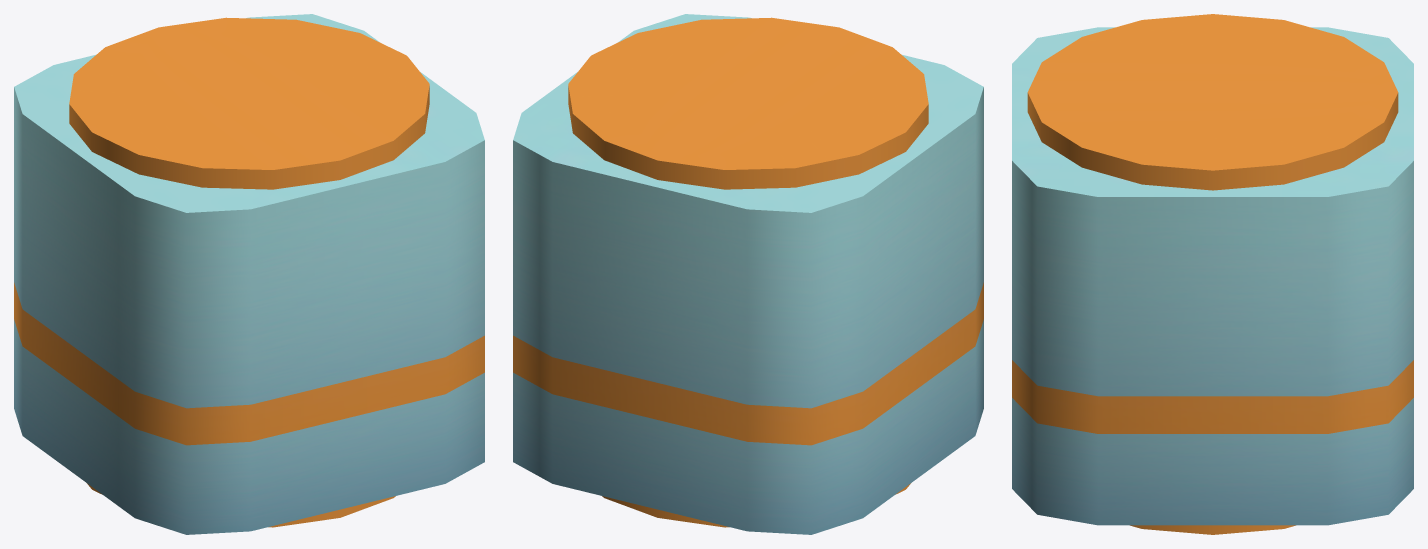
Rendered from Fuel 1.fbx.
3 views of the same model, side by side, from view 1: azimuth 30°, elevation 25°; view 2: azimuth 150°, elevation 25°; view 3: azimuth 270°, elevation 25° (orthographic).
Parts seen in each view (by area): view 1: Fuel 1; view 2: Fuel 1; view 3: Fuel 1.
Part boxes in pixels (x1=…): Fuel 1: x1=14, y1=14, x2=484, y2=534; Fuel 1: x1=513, y1=14, x2=983, y2=534; Fuel 1: x1=1012, y1=14, x2=1413, y2=534.
Bounding box in the file's own units: 100 × 100 × 100.
